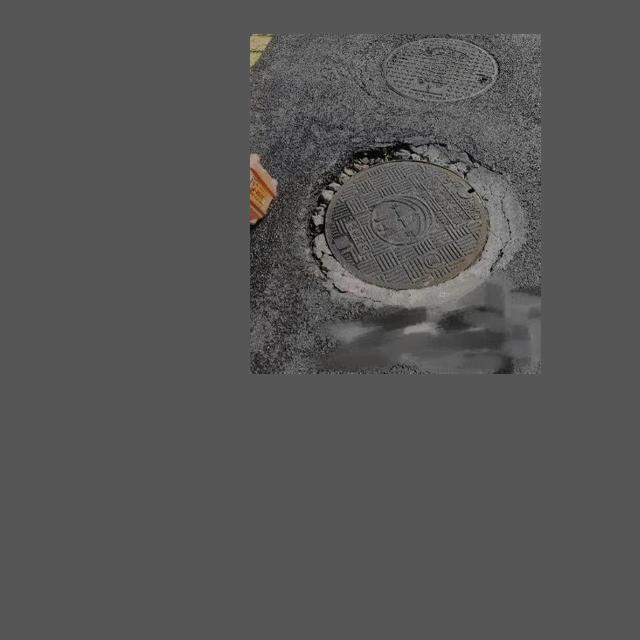circle: (308, 142, 523, 315)
good: (380, 37, 502, 102)
